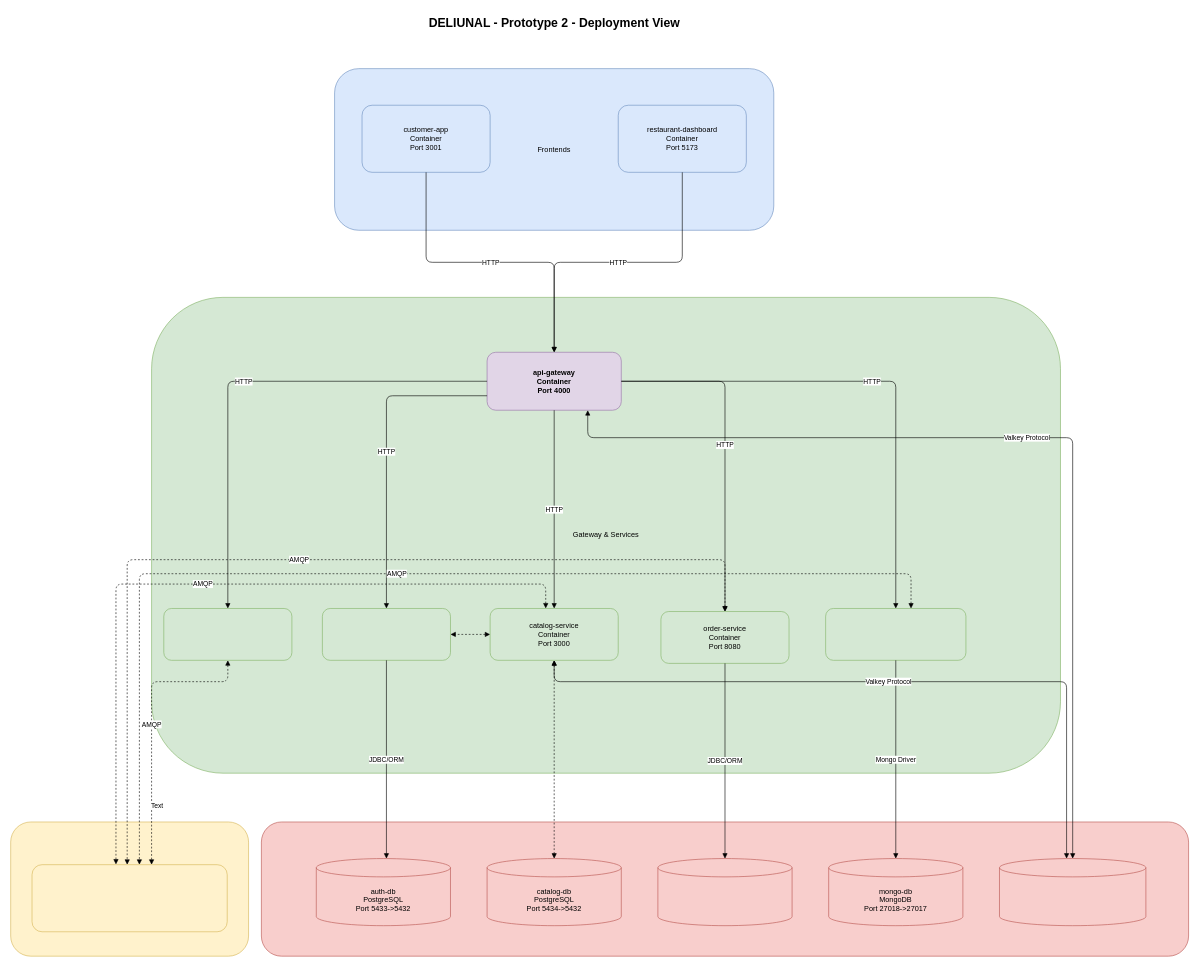
Image size: 1199x967. Some labels were removed from this diagram. The shapes that lost their labels are listed below. From the top down, each one's centre as x and y in pixels, then its label:
(227,634): kitchen-service Container Port 8082
(386,634): auth-service Container Port 8001
(895,634): notification-service Container Port 8000
(129,898): event-broker (RabbitMQ) Container Ports 5672 / 15672
(724,892): order-db PostgreSQL Port 5435->5432
(1072,892): valkey-cache Valkey Port 6380->6379
